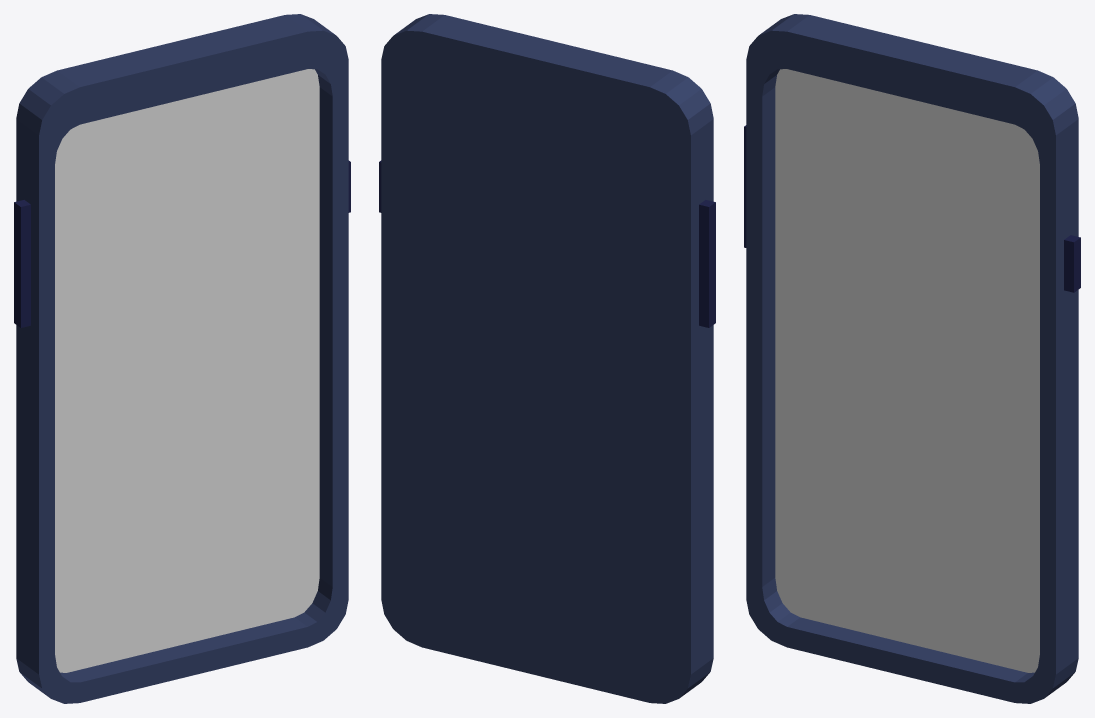
The model's file is phone.fbx.
The picture shows the model from 3 angles, left to right: view 1: azimuth 30°, elevation 25°; view 2: azimuth 150°, elevation 25°; view 3: azimuth 330°, elevation 25°; orthographic projection.
Visible parts, largest first — view 1: Cube; view 2: Cube; view 3: Cube.
Boxes of the visible parts, x1,y1,x2,y2 form: Cube: (14, 14, 350, 703); Cube: (379, 14, 715, 703); Cube: (744, 14, 1080, 703).
Size of the model in its own units: 107 by 190 by 12.79.
